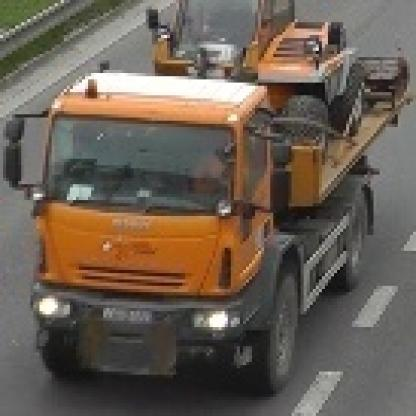truck: (1, 1, 411, 392)
